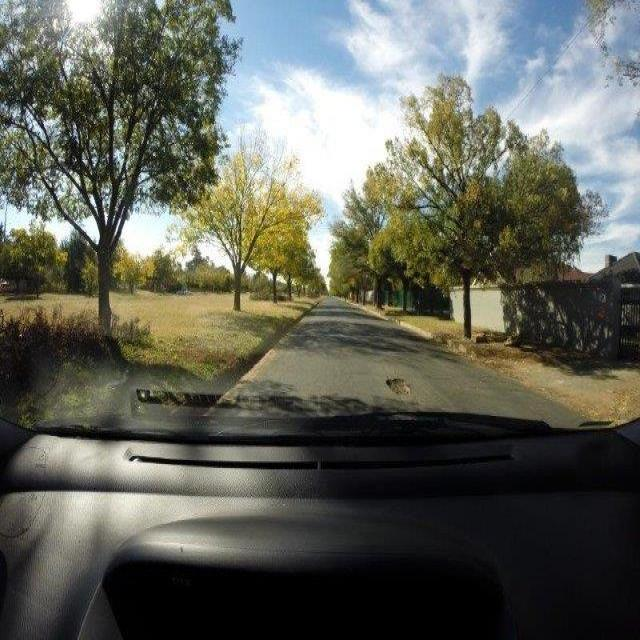lubang: (382, 375, 415, 401)
